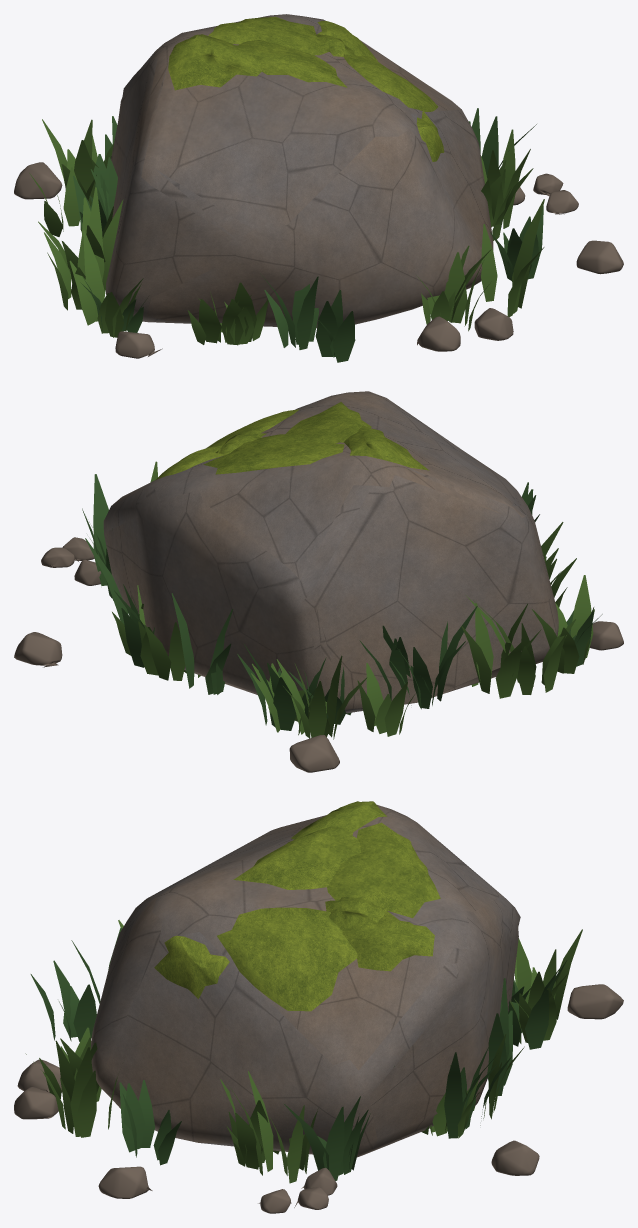
The model's file is rock_boulder.glb.
The picture shows the model from 3 angles, top to bottom: view 1: azimuth 30°, elevation 25°; view 2: azimuth 150°, elevation 25°; view 3: azimuth 270°, elevation 25°; orthographic projection. The views are drawn at different scales.
Parts seen in each view (by area): view 1: model; view 2: model; view 3: model.
Part boxes in pixels (x1=…): model: x1=14, y1=14, x2=623, y2=362; model: x1=14, y1=391, x2=623, y2=772; model: x1=14, y1=801, x2=623, y2=1213.
Bounding box in the file's own units: 2.63 × 1.08 × 2.54.
Materials: 5 (2 with a texture image).
